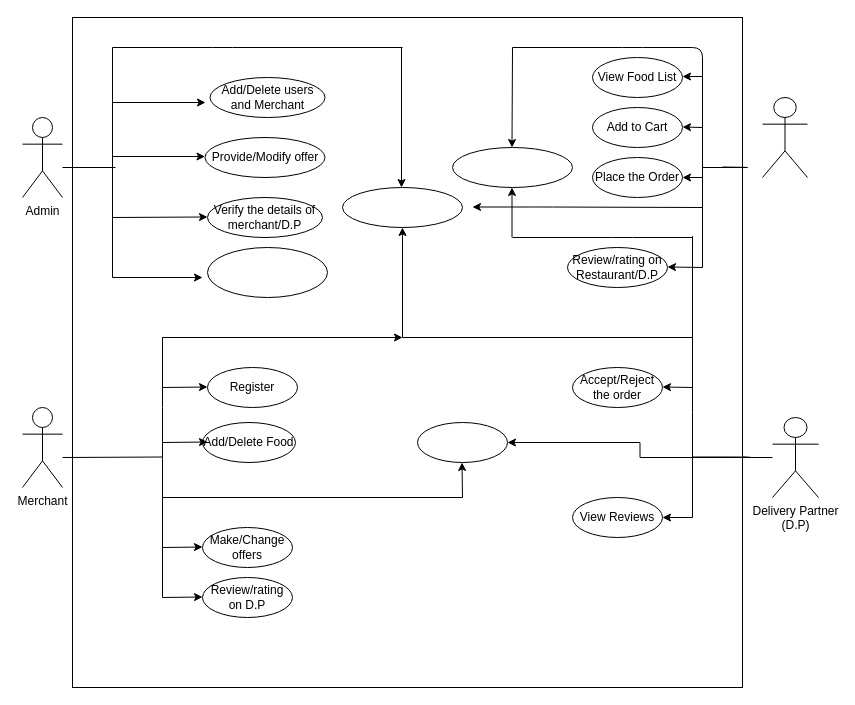
Image size: 855x705. Some labels were removed from this diagram. Each missing label, with the box of its shape:
Block the Merchant/D.P: (206, 246, 328, 298)
Login: (342, 186, 462, 228)
Sign-up: (452, 146, 572, 188)
Updating the Status: (416, 422, 508, 462)
User: (762, 96, 808, 178)
